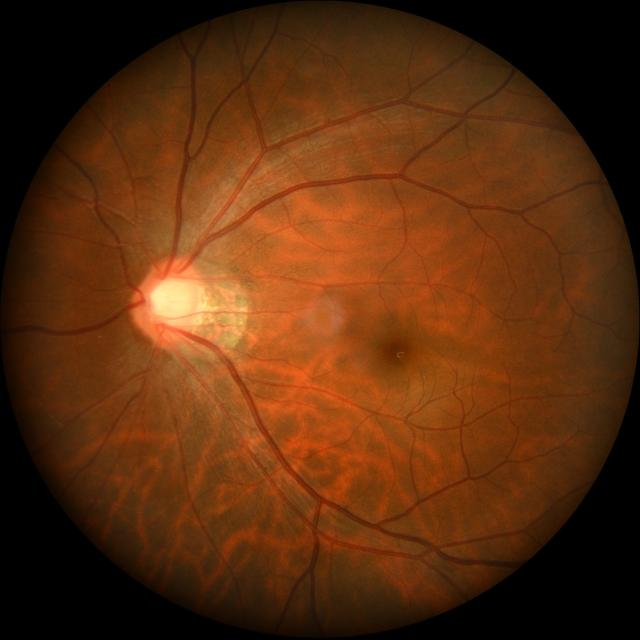OC: (150, 279, 192, 326)
OD: (132, 258, 206, 346)
